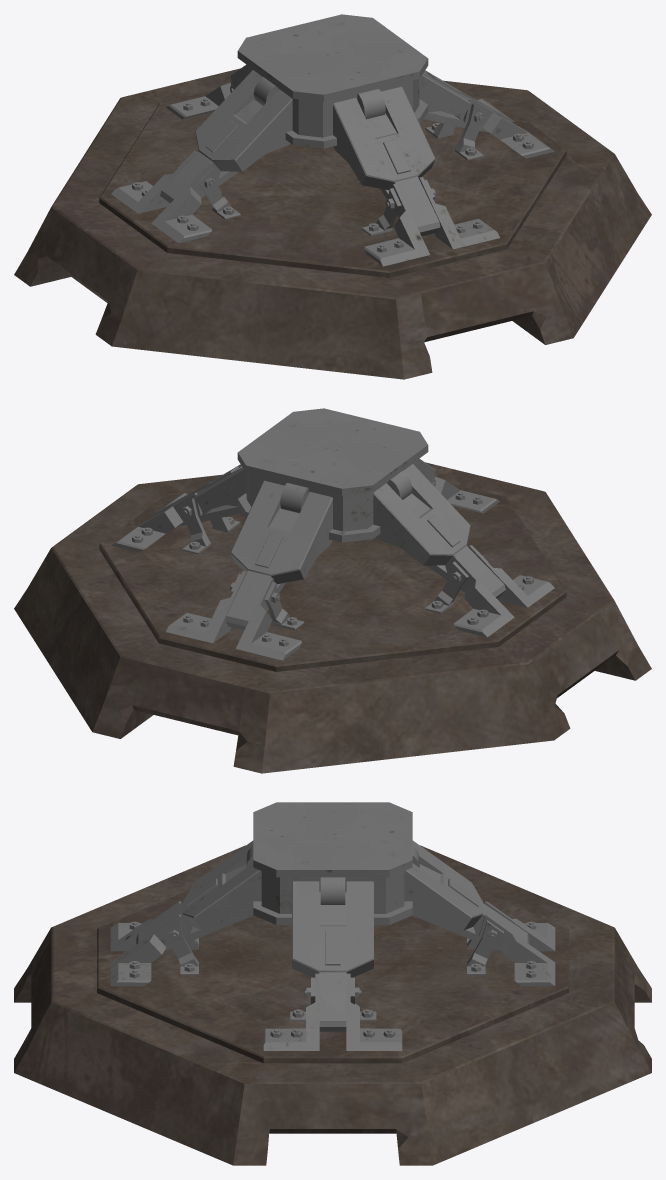
Rendered from legs.fbx.
The picture shows the model from 3 angles, top to bottom: view 1: azimuth 30°, elevation 25°; view 2: azimuth 150°, elevation 25°; view 3: azimuth 270°, elevation 25°; orthographic projection. The views are drawn at different scales.
Parts seen in each view (by area): view 1: Cube.003; view 2: Cube.003; view 3: Cube.003.
Part boxes in pixels (x1,y1,x2,y2): Cube.003: [14, 14, 651, 379]; Cube.003: [14, 408, 651, 773]; Cube.003: [14, 802, 651, 1165].
Size of the model in its own units: 881 by 296 by 881.
